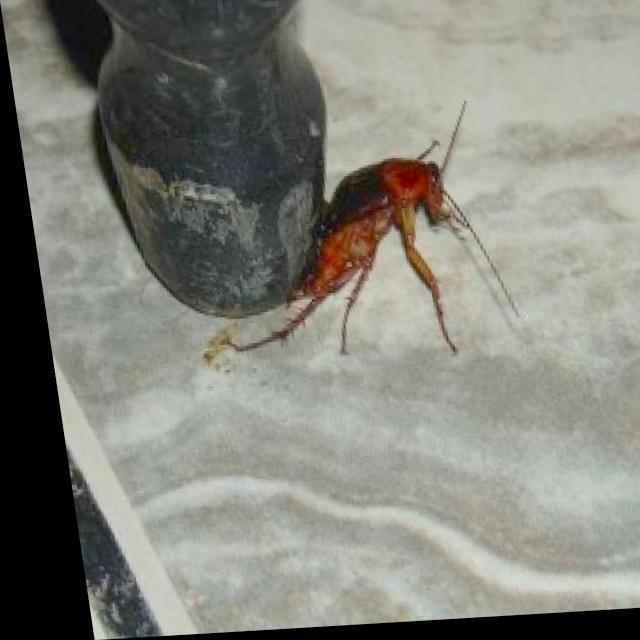cockroach: (199, 97, 528, 369)
